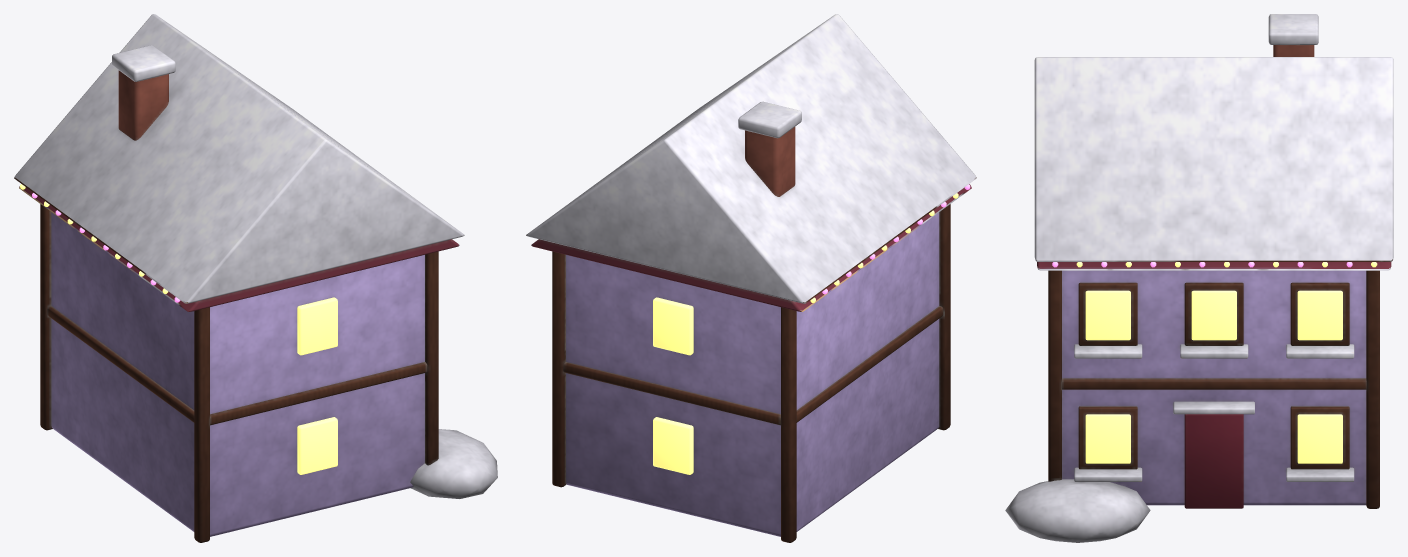
Rendered from sf_house_c.glb.
3 renders of one model, left to right at view 1: azimuth 30°, elevation 25°; view 2: azimuth 150°, elevation 25°; view 3: azimuth 270°, elevation 25°, orthographic. The views are drawn at different scales.
Visible parts, largest first — view 1: sf_house_c; view 2: sf_house_c; view 3: sf_house_c.
Boxes of the visible parts, box(x1,y1,x2,y2) form: sf_house_c: box(14, 14, 497, 542); sf_house_c: box(526, 14, 976, 542); sf_house_c: box(1005, 14, 1393, 542).
Bounding box in the file's own units: 8.46 × 10.05 × 8.55.
Materials: 9 (9 with a texture image).
